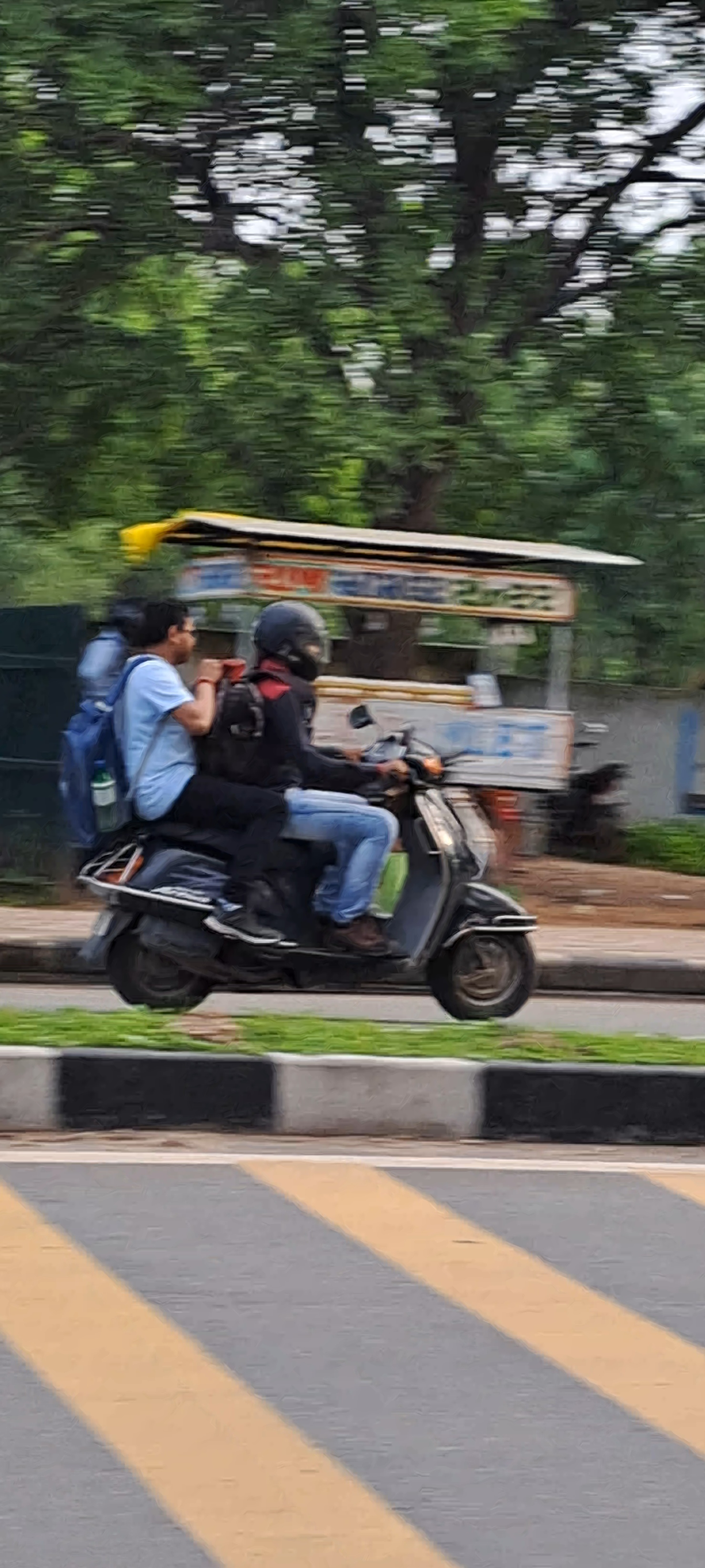BikeWithRider: (40, 579, 563, 1046)
Helmet: (234, 575, 354, 700)
NoHelmet: (115, 586, 211, 675)
